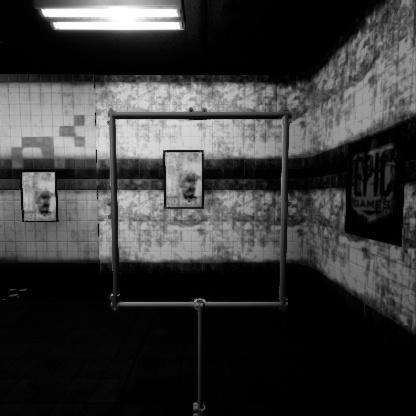gate: (109, 104, 308, 306)
